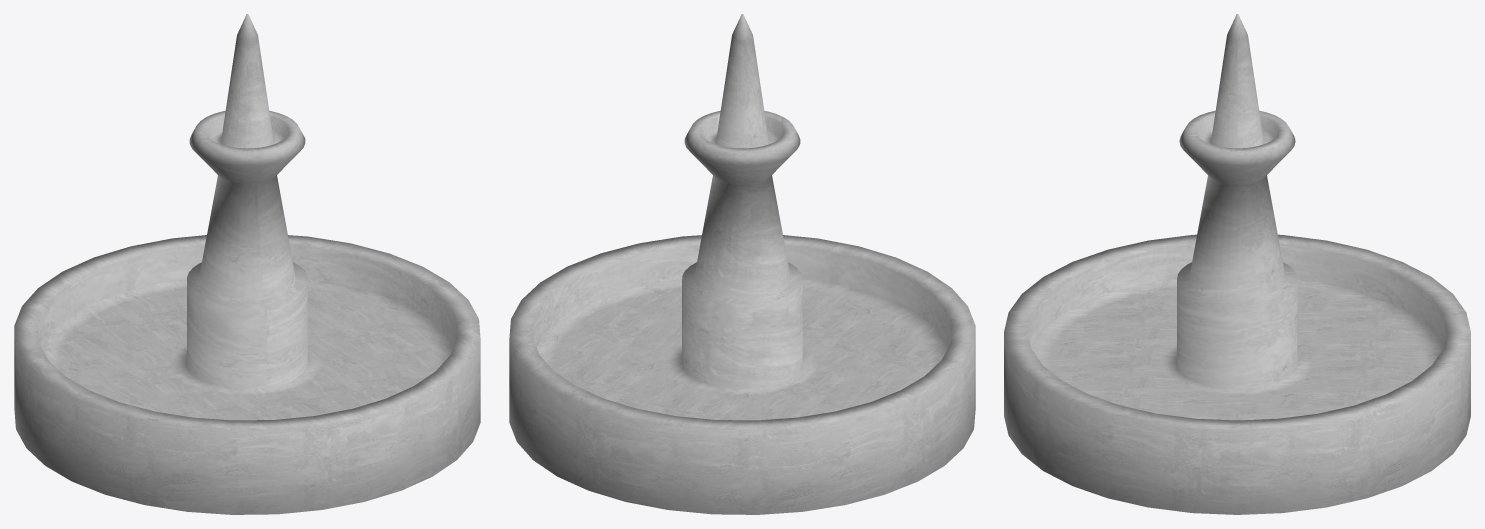
Rendered from fountain_round.glb.
3 views of the same model, side by side, from view 1: azimuth 30°, elevation 25°; view 2: azimuth 150°, elevation 25°; view 3: azimuth 270°, elevation 25° (orthographic).
Parts seen in each view (by area): view 1: Prop.fountain_round; view 2: Prop.fountain_round; view 3: Prop.fountain_round.
Part boxes in pixels (x1,y1,x2,y2): Prop.fountain_round: (14, 14, 480, 514); Prop.fountain_round: (509, 14, 975, 514); Prop.fountain_round: (1004, 14, 1470, 514).
Size of the model in its own units: 4 by 3.8 by 4.
Materials: 1 (1 with a texture image).
